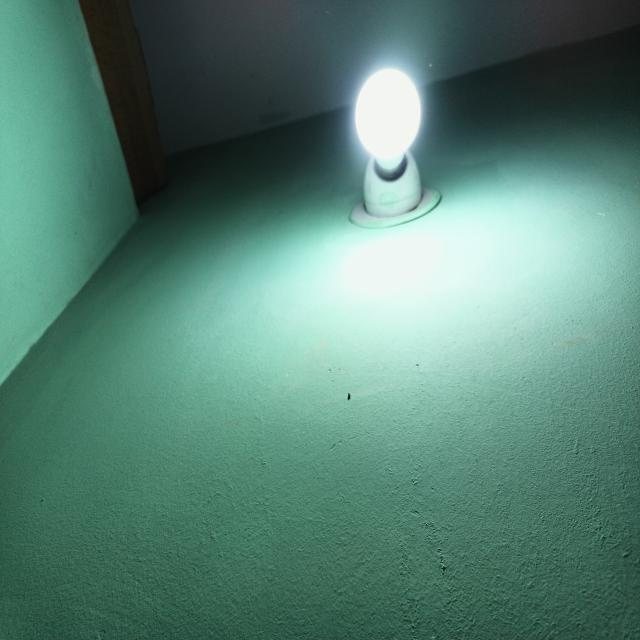bulb_on: (353, 65, 422, 166)
